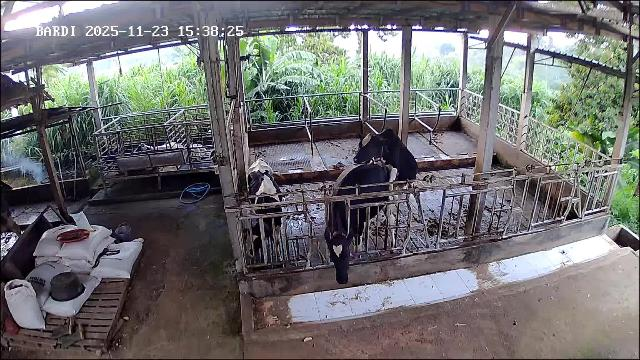mounting: (354, 125, 420, 221)
